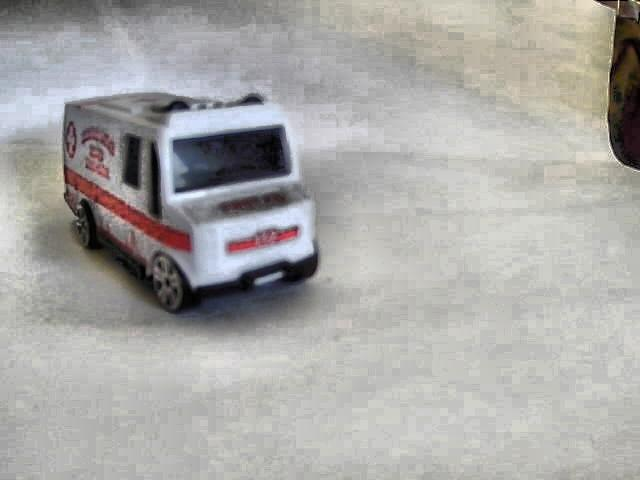ambulance: (61, 91, 319, 312)
